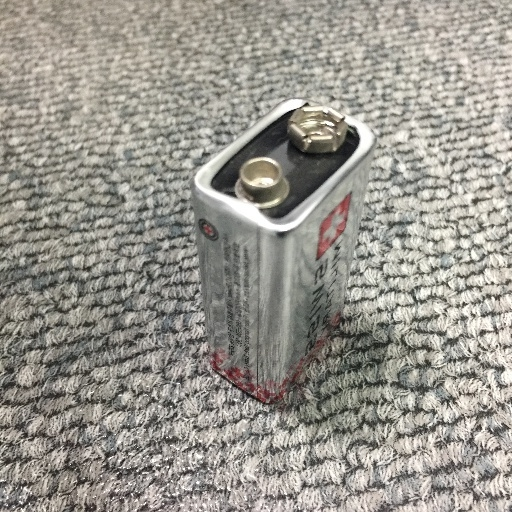Battery_3: (173, 76, 390, 425)
